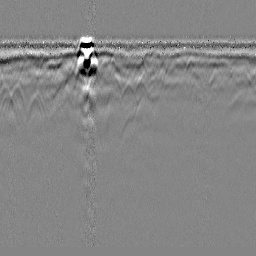cavity: (119, 77, 136, 105)
